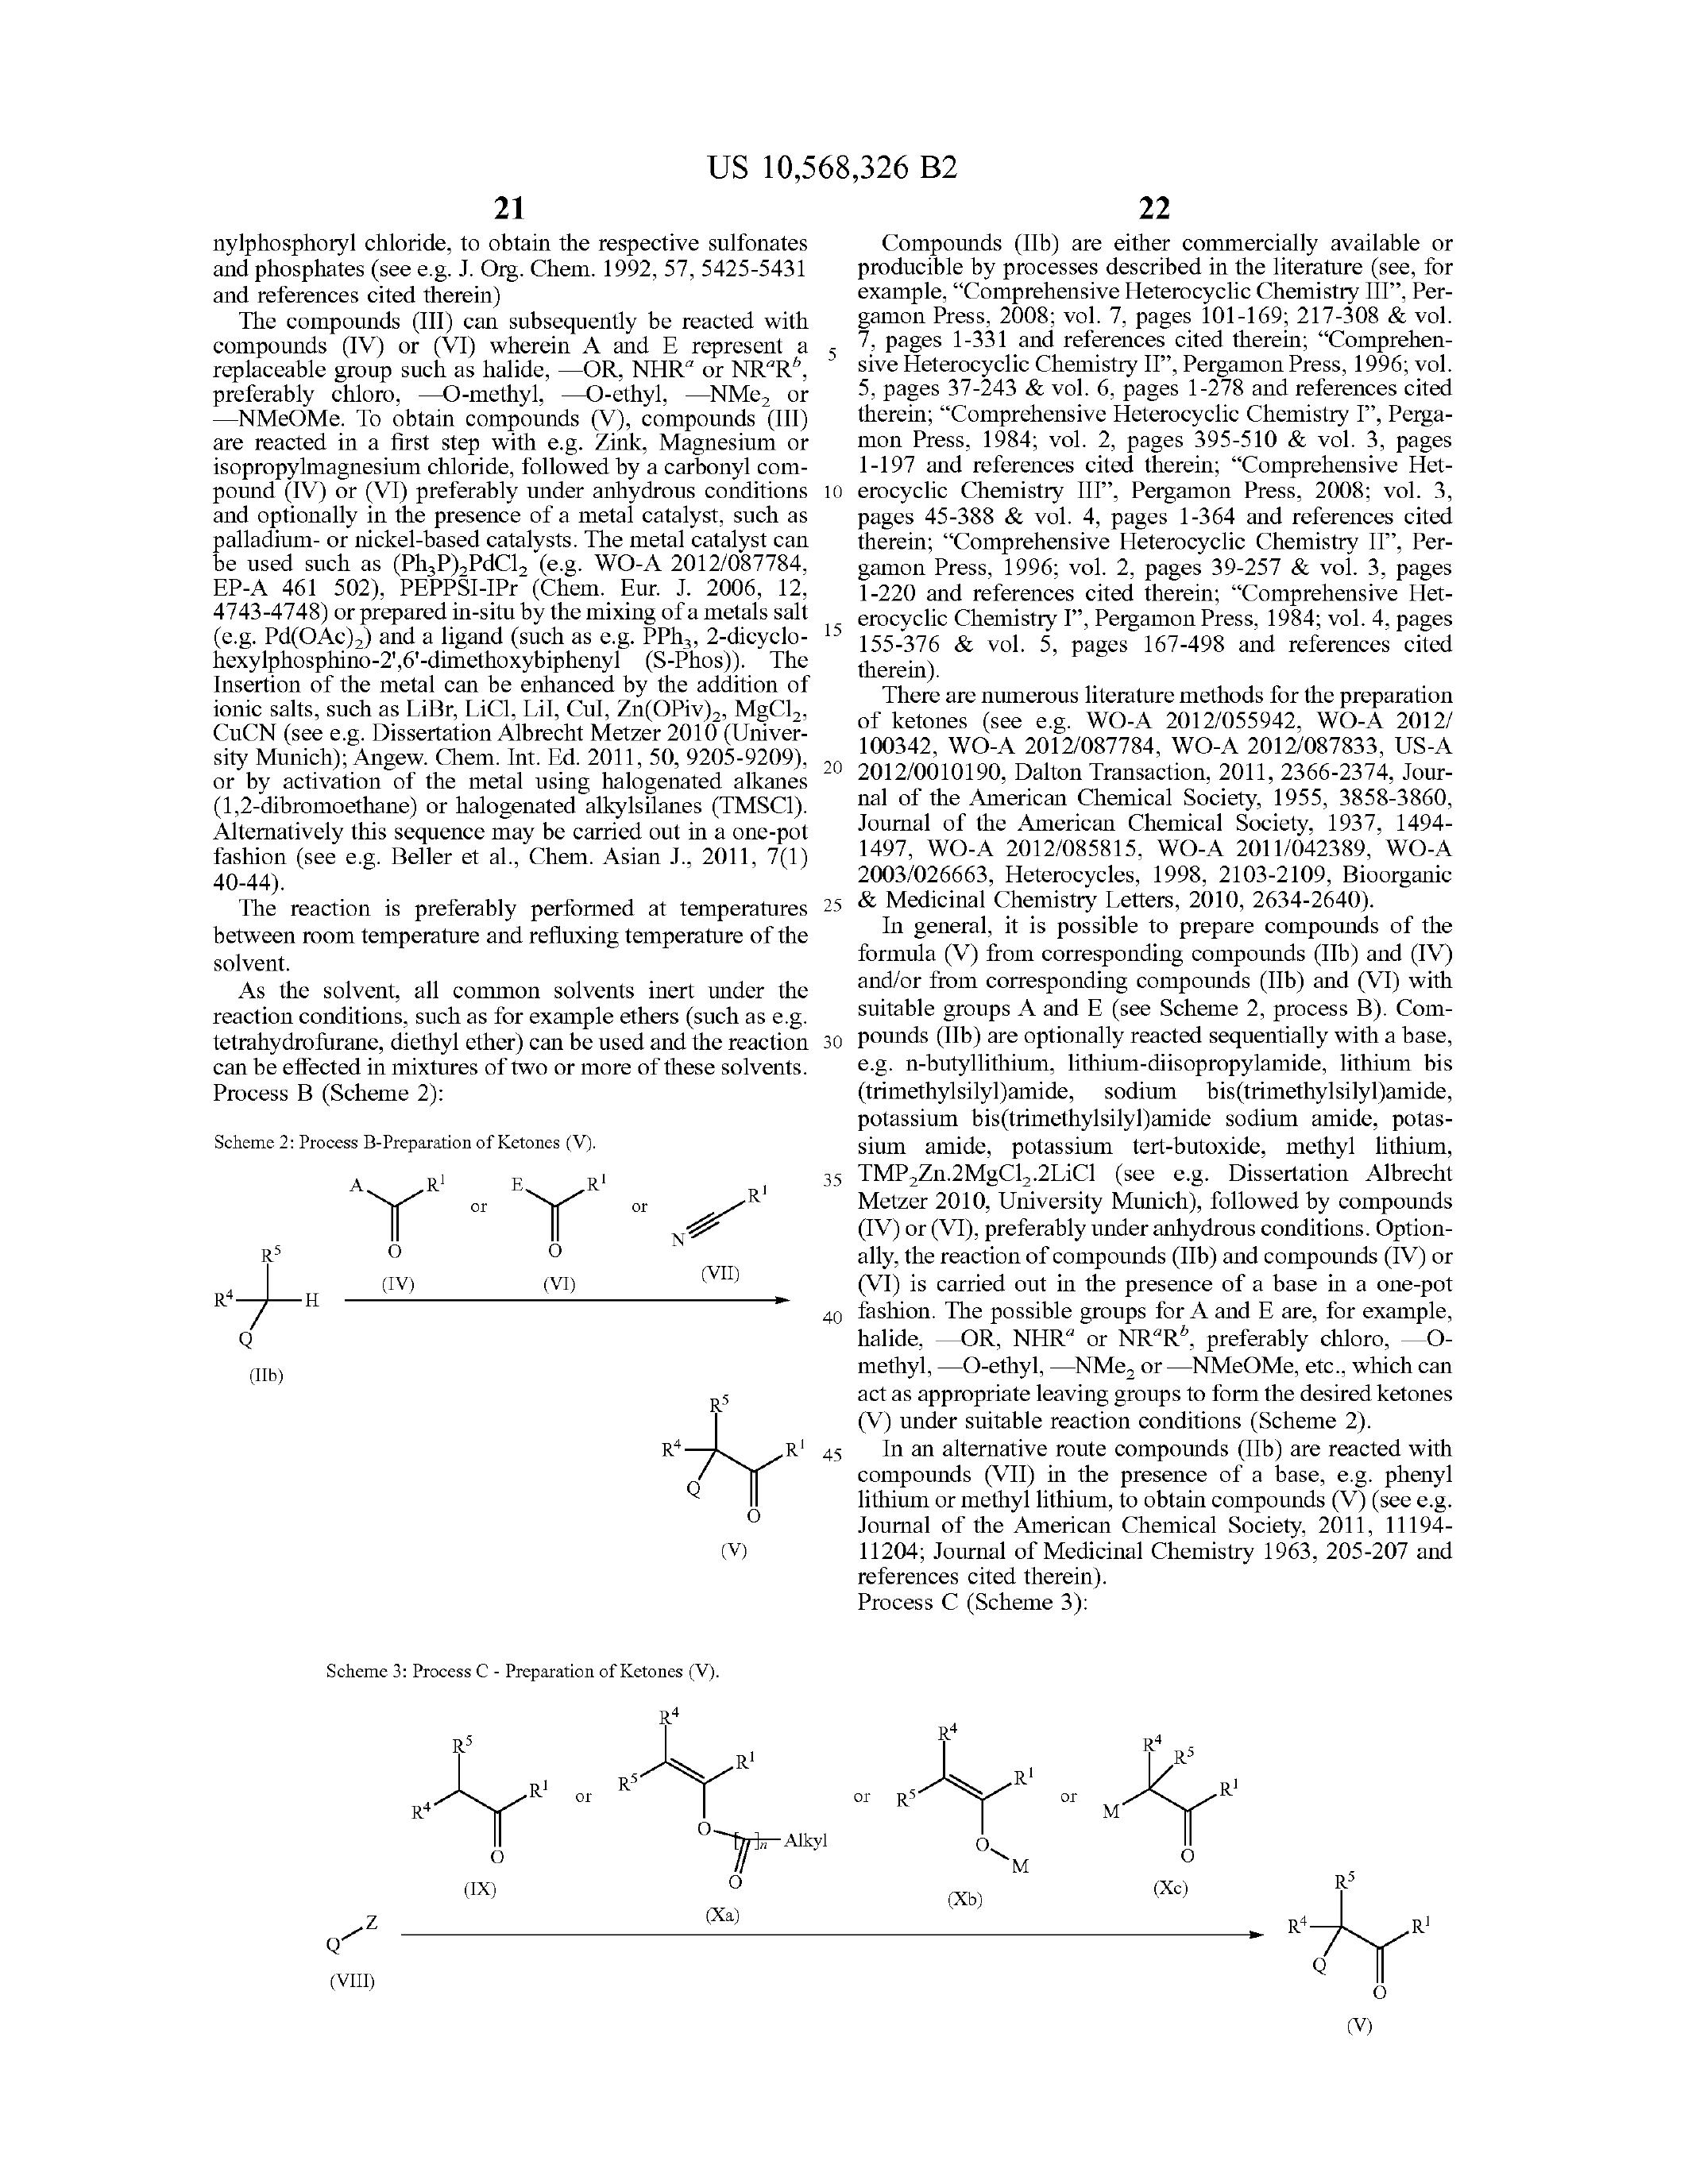reactions: (312, 1658, 1486, 2111), (202, 1138, 787, 1558)
